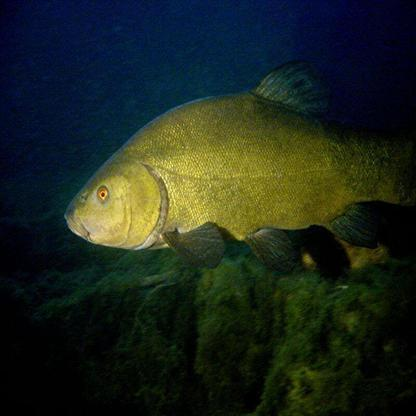fish: (59, 53, 416, 289)
